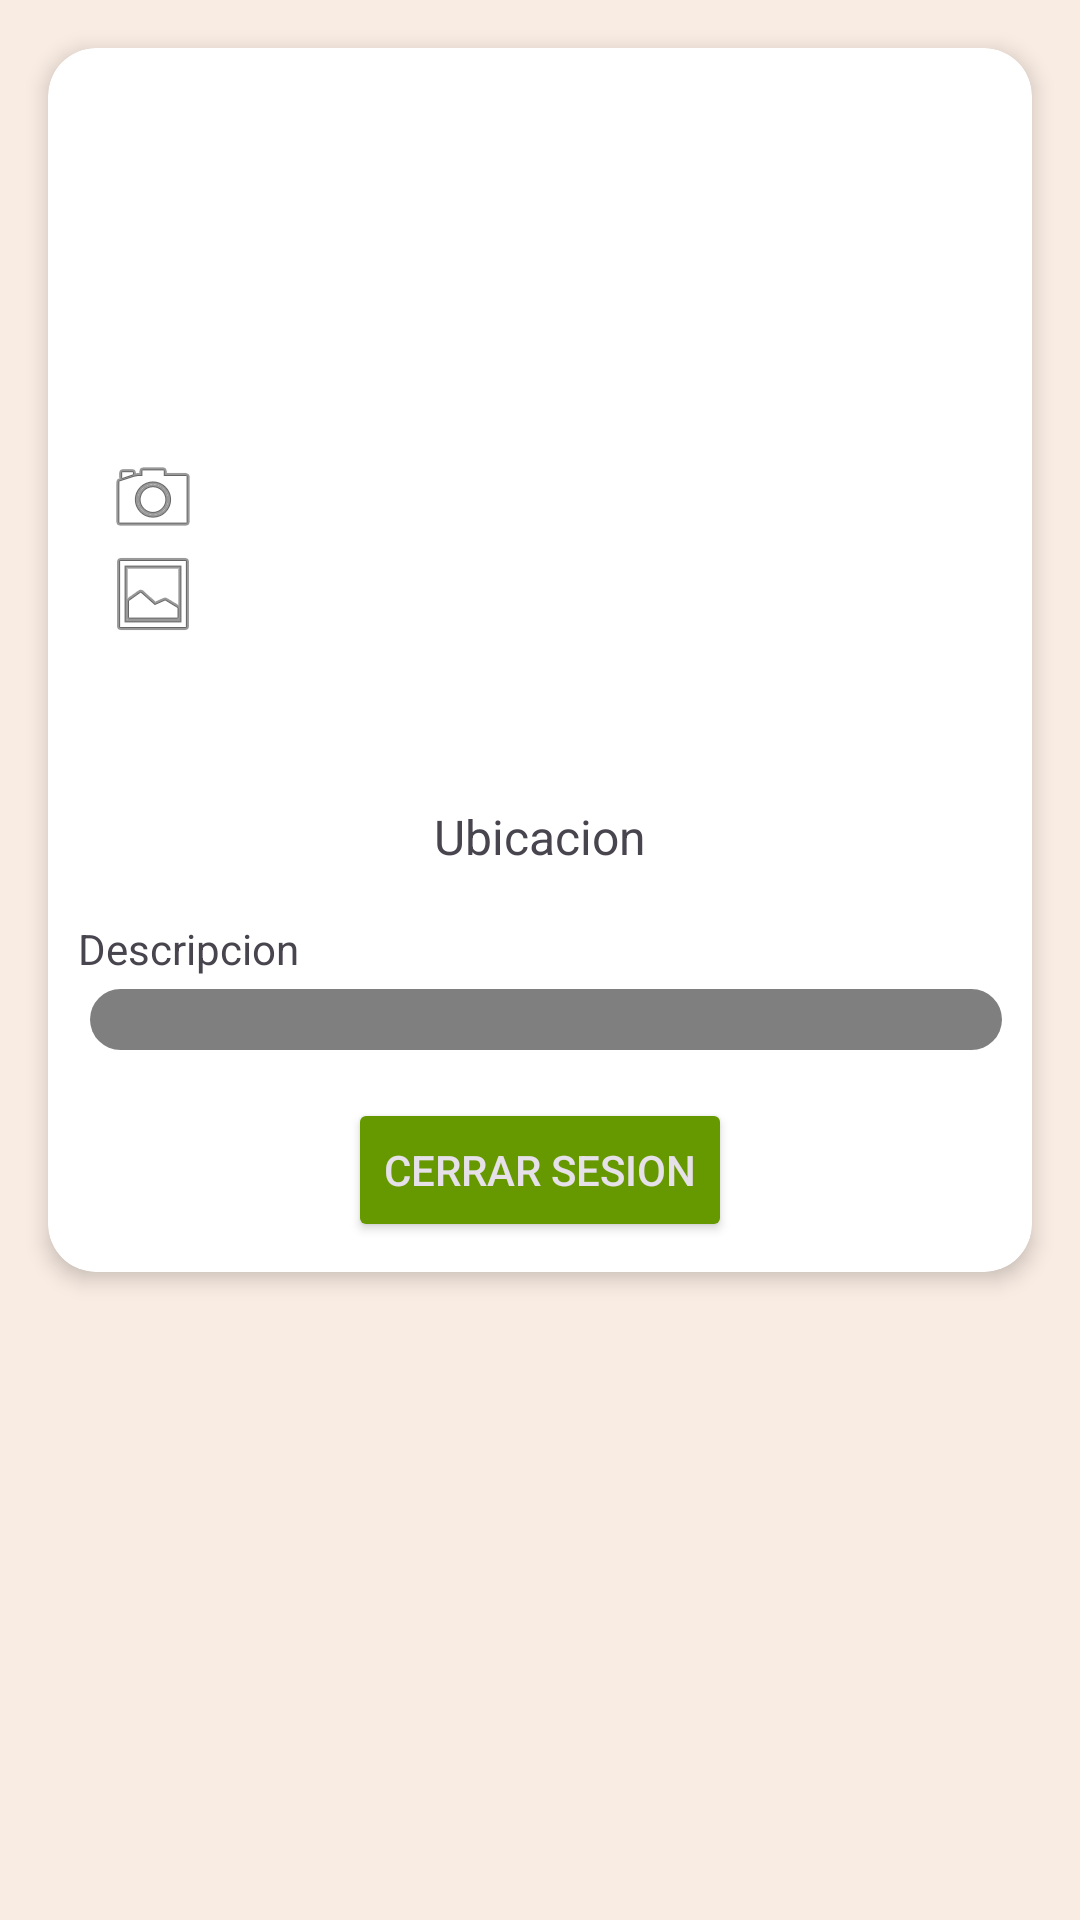

Where icons sit on this 1080*1920 app screen, as box=[x1, y1, x2, y2]:
camera: box=[116, 467, 190, 526]
gallery: box=[117, 558, 189, 630]
